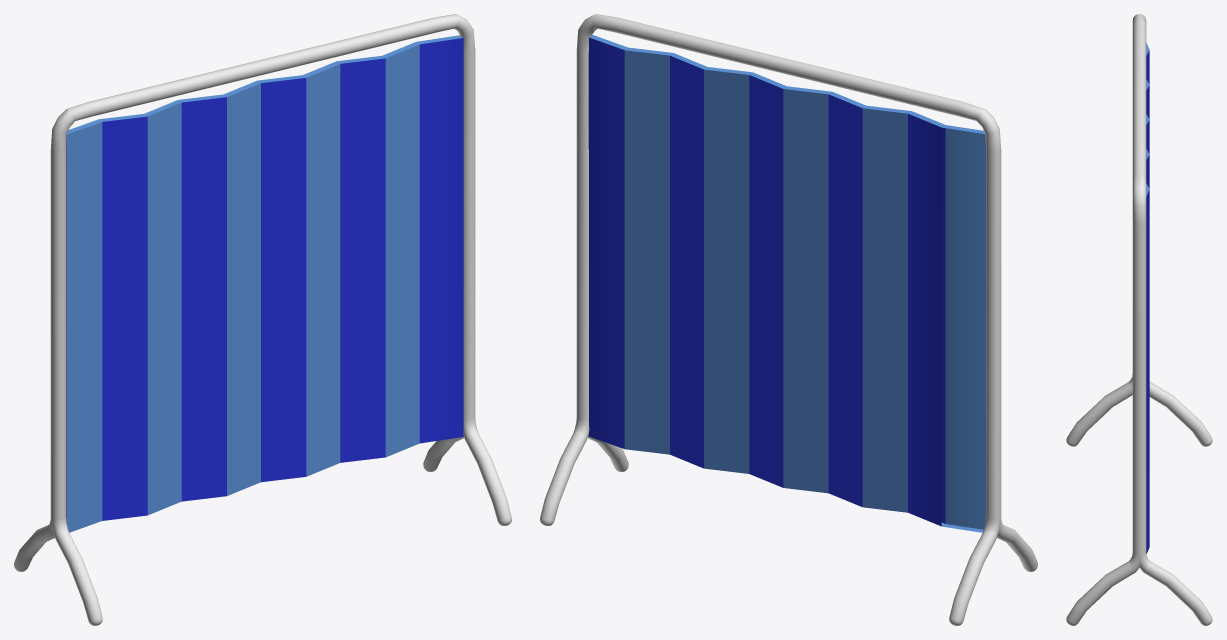
File: cortina.fbx
3 renders of one model, left to right at view 1: azimuth 30°, elevation 25°; view 2: azimuth 150°, elevation 25°; view 3: azimuth 270°, elevation 25°, orthographic. The views are drawn at different scales.
Visible parts, largest first — view 1: medical_screen.003; view 2: medical_screen.003; view 3: medical_screen.003.
Part boxes in pixels (x1=…): medical_screen.003: x1=14, y1=14, x2=511, y2=625; medical_screen.003: x1=540, y1=14, x2=1037, y2=625; medical_screen.003: x1=1066, y1=14, x2=1212, y2=625.
Bounding box in the file's own units: 118 × 130 × 39.34.
